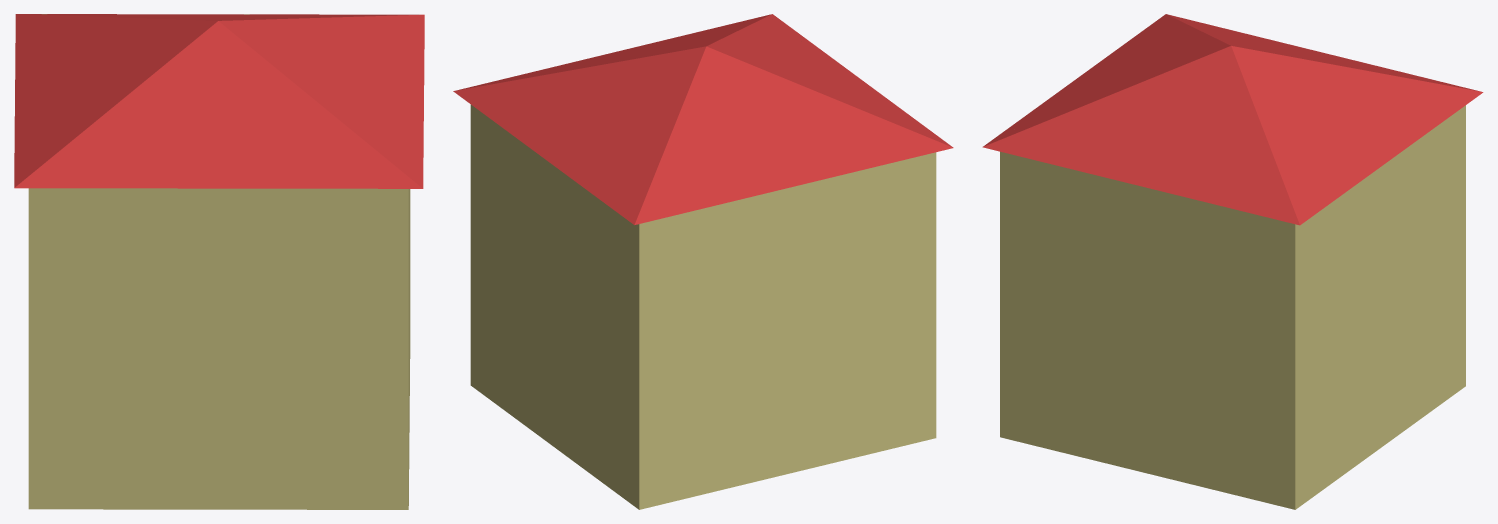
3 renders of one model, left to right at view 1: azimuth 30°, elevation 25°; view 2: azimuth 150°, elevation 25°; view 3: azimuth 270°, elevation 25°, orthographic. The views are drawn at different scales.
Visible parts, largest first — view 1: group_5, group_3, group_4; view 2: group_5, group_3, group_4; view 3: group_5, group_3, group_4.
Part boxes in pixels (bbox=[...]): group_5: bbox=[28, 14, 410, 509]; group_3: bbox=[14, 14, 423, 188]; group_4: bbox=[14, 14, 424, 188]; group_5: bbox=[470, 104, 936, 509]; group_3: bbox=[471, 14, 953, 212]; group_4: bbox=[453, 14, 951, 224]; group_5: bbox=[1000, 105, 1465, 509]; group_3: bbox=[982, 14, 1465, 212]; group_4: bbox=[983, 16, 1483, 225].
Bounding box in the file's own units: 19.37 × 19.41 × 15.58.
